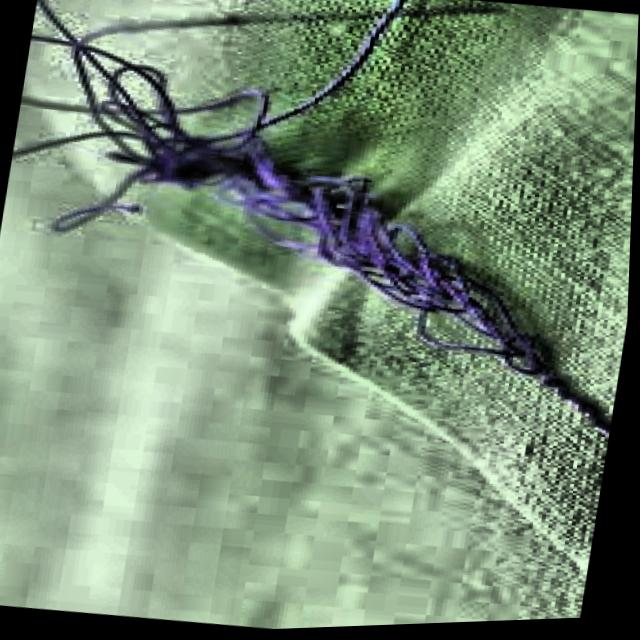Stitch: (0, 0, 592, 427)
